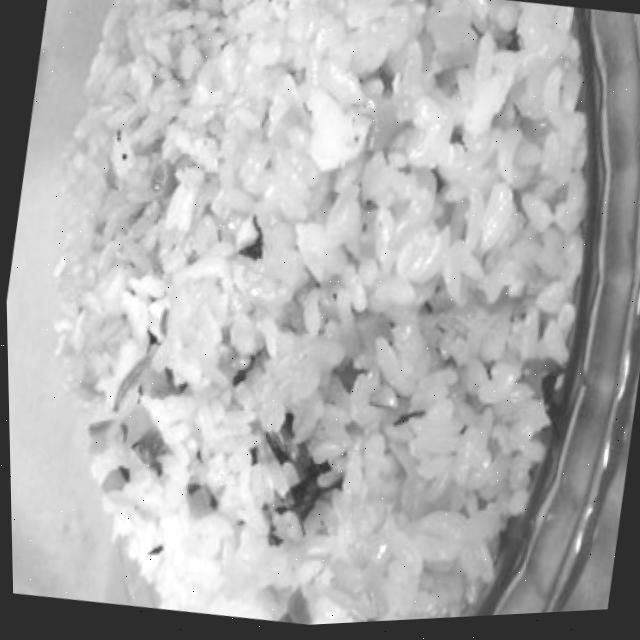米饭主食: (32, 0, 640, 639)
